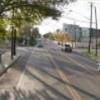cars: (62, 43, 73, 53)
